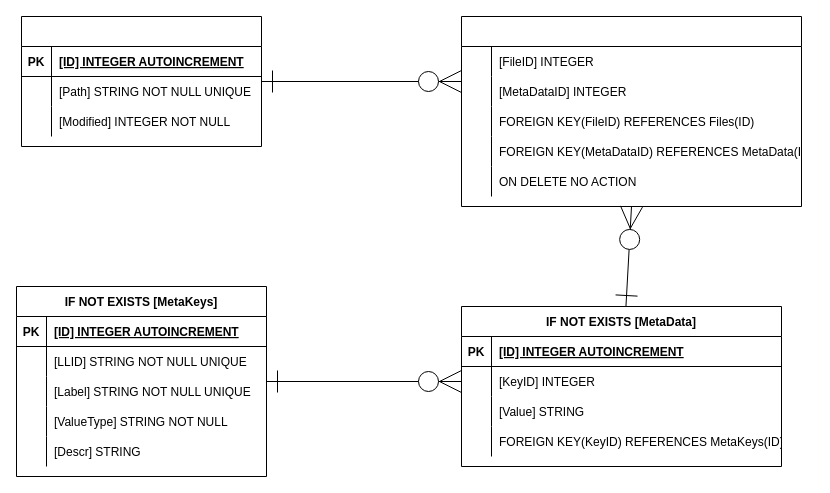
Some shapes in this 830 by 493 pixel diagram are drawn without their labels. Here are the shapes that lost their labels. From the top down, the box of each, then its label:
(20, 16, 262, 146): IF NOT EXISTS [Files]
(460, 16, 802, 206): IF NOT EXISTS [MetaMap]
